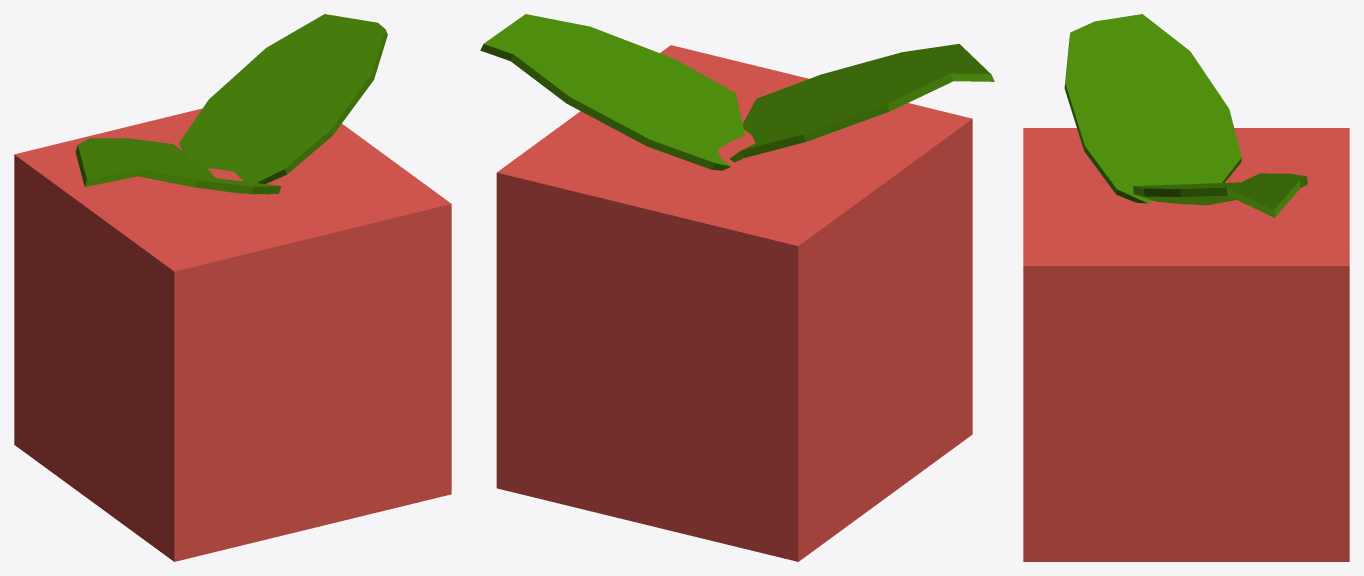
File: Berry_Red.fbx
The picture shows the model from 3 angles, left to right: view 1: azimuth 30°, elevation 25°; view 2: azimuth 150°, elevation 25°; view 3: azimuth 270°, elevation 25°; orthographic projection. The views are drawn at different scales.
Visible parts, largest first — view 1: Berry_Red; view 2: Berry_Red; view 3: Berry_Red.
Boxes of the visible parts, x1=… form: Berry_Red: x1=14, y1=14, x2=451, y2=561; Berry_Red: x1=480, y1=14, x2=994, y2=561; Berry_Red: x1=1023, y1=14, x2=1349, y2=561.
Bounding box in the file's own units: 18.04 × 17.2 × 13.01.
